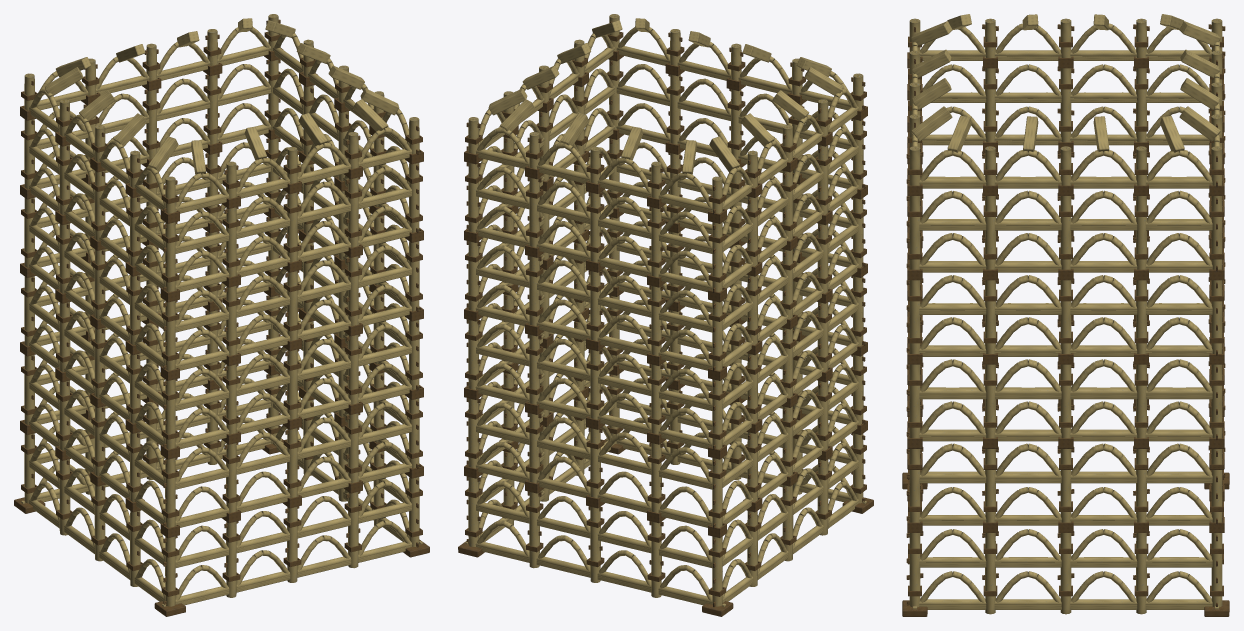
3 views of the same model, side by side, from view 1: azimuth 30°, elevation 25°; view 2: azimuth 150°, elevation 25°; view 3: azimuth 270°, elevation 25° (orthographic). The views are drawn at different scales.
Visible parts, largest first — view 1: Tier 0 side 0 post 3, Tier 0 side 0 post 1, Tier 0 side 0 post 2, Tier 0 side 0 post 0, Tier 3 side 0 post 0, Tier 2 side 0 post 0, Tier 4 side 0 post 0, Tier 1 side 0 post 0, Tier 1 side 0 post 3, Tier 3 side 0 post 3, Tier 1 side 0 post 2, Tier 4 side 0 post 1 (+21 smaller); view 2: Tier 0 side 2 post 1, Tier 0 side 2 post 3, Tier 0 side 2 post 2, Tier 0 side 3 post 0, Tier 3 side 3 post 0, Tier 1 side 3 post 0, Tier 2 side 3 post 0, Tier 4 side 3 post 0, Tier 1 side 2 post 1, Tier 2 side 2 post 0, Tier 3 side 2 post 1, Tier 3 side 2 post 0 (+20 smaller); view 3: Tier 0 side 1 post 2, Tier 2 side 1 post 0, Tier 2 side 1 post 2, Tier 0 side 1 post 0, Tier 1 side 1 post 0, Tier 4 side 3 post 2, Tier 3 side 1 post 0, Tier 4 side 1 post 0, Tier 0 side 1 post 1, Tier 0 side 1 post 3, Tier 2 side 2 post 0, Tier 1 side 1 post 2 (+27 smaller).
Part boxes in pixels (left/top/right/bottom): Tier 0 side 0 post 3: left=348, top=492, right=358, bottom=568; Tier 0 side 0 post 1: left=226, top=521, right=236, bottom=597; Tier 0 side 0 post 2: left=287, top=507, right=297, bottom=582; Tier 0 side 0 post 0: left=165, top=536, right=175, bottom=606; Tier 3 side 0 post 0: left=165, top=300, right=175, bottom=370; Tier 2 side 0 post 0: left=165, top=379, right=175, bottom=449; Tier 4 side 0 post 0: left=165, top=222, right=175, bottom=292; Tier 1 side 0 post 0: left=165, top=458, right=175, bottom=527; Tier 1 side 0 post 3: left=348, top=413, right=358, bottom=483; Tier 3 side 0 post 3: left=348, top=256, right=358, bottom=326; Tier 1 side 0 post 2: left=287, top=428, right=297, bottom=498; Tier 4 side 0 post 1: left=226, top=207, right=236, bottom=277; Tier 0 side 2 post 1: left=529, top=492, right=539, bottom=568; Tier 0 side 2 post 3: left=651, top=521, right=661, bottom=597; Tier 0 side 2 post 2: left=590, top=507, right=600, bottom=582; Tier 0 side 3 post 0: left=712, top=536, right=722, bottom=606; Tier 3 side 3 post 0: left=712, top=300, right=722, bottom=370; Tier 1 side 3 post 0: left=712, top=458, right=722, bottom=527; Tier 2 side 3 post 0: left=712, top=379, right=722, bottom=449; Tier 4 side 3 post 0: left=712, top=222, right=722, bottom=292; Tier 1 side 2 post 1: left=529, top=413, right=539, bottom=483; Tier 2 side 2 post 0: left=468, top=320, right=478, bottom=389; Tier 3 side 2 post 1: left=529, top=256, right=539, bottom=326; Tier 3 side 2 post 0: left=468, top=241, right=478, bottom=311; Tier 0 side 1 post 2: left=1060, top=533, right=1071, bottom=614; Tier 2 side 1 post 0: left=909, top=364, right=920, bottom=438; Tier 2 side 1 post 2: left=1060, top=364, right=1071, bottom=438; Tier 0 side 1 post 0: left=909, top=533, right=920, bottom=607; Tier 1 side 1 post 0: left=909, top=449, right=920, bottom=522; Tier 4 side 3 post 2: left=1060, top=68, right=1071, bottom=142; Tier 3 side 1 post 0: left=909, top=280, right=920, bottom=353; Tier 4 side 1 post 0: left=909, top=196, right=920, bottom=269; Tier 0 side 1 post 1: left=985, top=533, right=995, bottom=614; Tier 0 side 1 post 3: left=1136, top=533, right=1146, bottom=614; Tier 2 side 2 post 0: left=1211, top=364, right=1222, bottom=438; Tier 1 side 1 post 2: left=1060, top=449, right=1071, bottom=522.
Bounding box in the file's own units: 1.95 × 3.17 × 1.95.
Materials: 2 (2 with a texture image).
